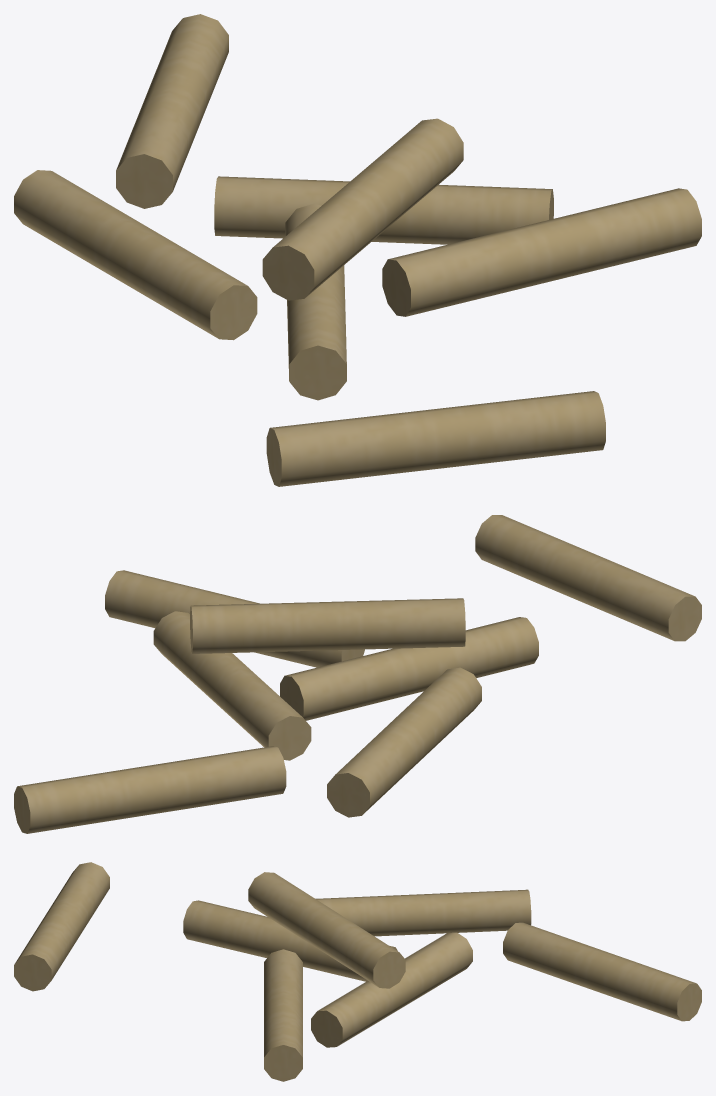
File: SM_FireExtinguisher_Part_01.FBX
3 views of the same model, one above another, from view 1: azimuth 30°, elevation 25°; view 2: azimuth 150°, elevation 25°; view 3: azimuth 270°, elevation 25° (orthographic). The views are drawn at different scales.
Parts seen in each view (by area): view 1: SM_FireExtinguisher_Part_01_LOD0; view 2: SM_FireExtinguisher_Part_01_LOD0; view 3: SM_FireExtinguisher_Part_01_LOD0.
Part boxes in pixels (x1,y1,x2,y2): SM_FireExtinguisher_Part_01_LOD0: [14, 14, 701, 486]; SM_FireExtinguisher_Part_01_LOD0: [14, 515, 701, 833]; SM_FireExtinguisher_Part_01_LOD0: [14, 862, 701, 1081].
Bounding box in the file's own units: 9.16 × 14.41 × 1.71.
